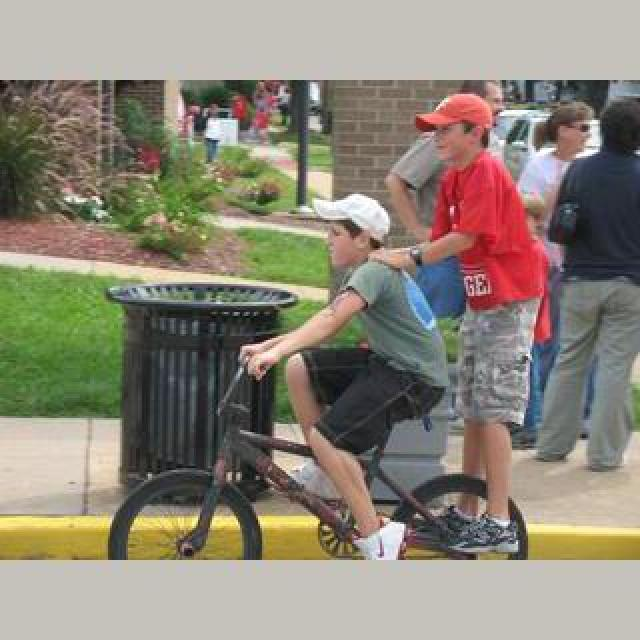MC-Bike: (238, 202, 448, 554), (400, 88, 548, 538), (536, 96, 640, 482)
Person: (106, 346, 500, 560)
